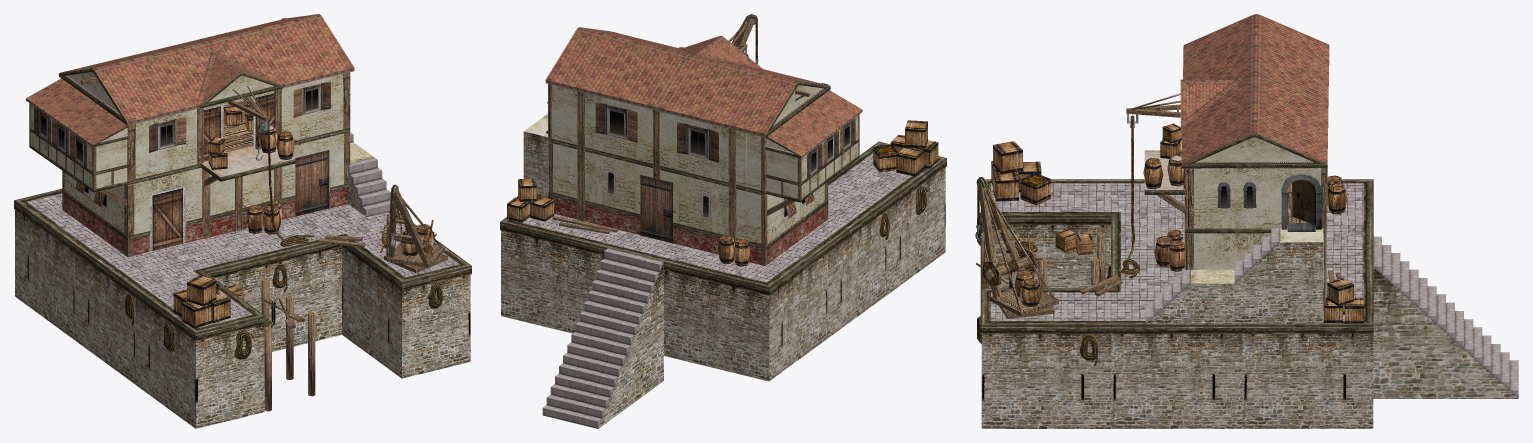
The model's file is rome_dock.dae.
3 views of the same model, side by side, from view 1: azimuth 30°, elevation 25°; view 2: azimuth 150°, elevation 25°; view 3: azimuth 270°, elevation 25° (orthographic). The views are drawn at different scales.
Visible parts, largest first — view 1: rome_dock; view 2: rome_dock; view 3: rome_dock.
Boxes of the visible parts, bbox=[...] form: rome_dock: bbox=[14, 14, 471, 428]; rome_dock: bbox=[500, 14, 946, 428]; rome_dock: bbox=[975, 14, 1518, 428].
Size of the model in its own units: 23.19 by 34.7 by 21.88.
